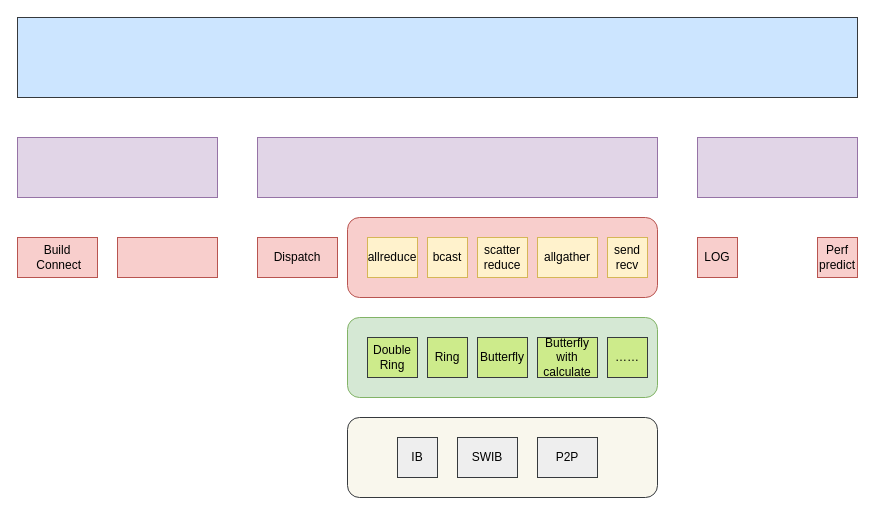
This 875x515 diagram has some shape labels left out. The shapes that lost their labels are listed below. From the top down, each one's centre as x and y in pixels, then its label:
At pixel 437 57: "TCCL".
At pixel 117 167: "Init".
At pixel 457 167: "Collective Communication Implement".
At pixel 777 167: "Tools".
At pixel 167 257: "Thread Init".
